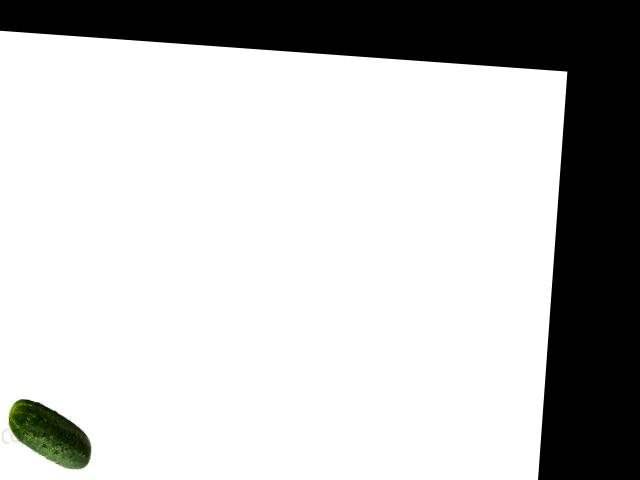cucumber: (5, 398, 95, 470)
